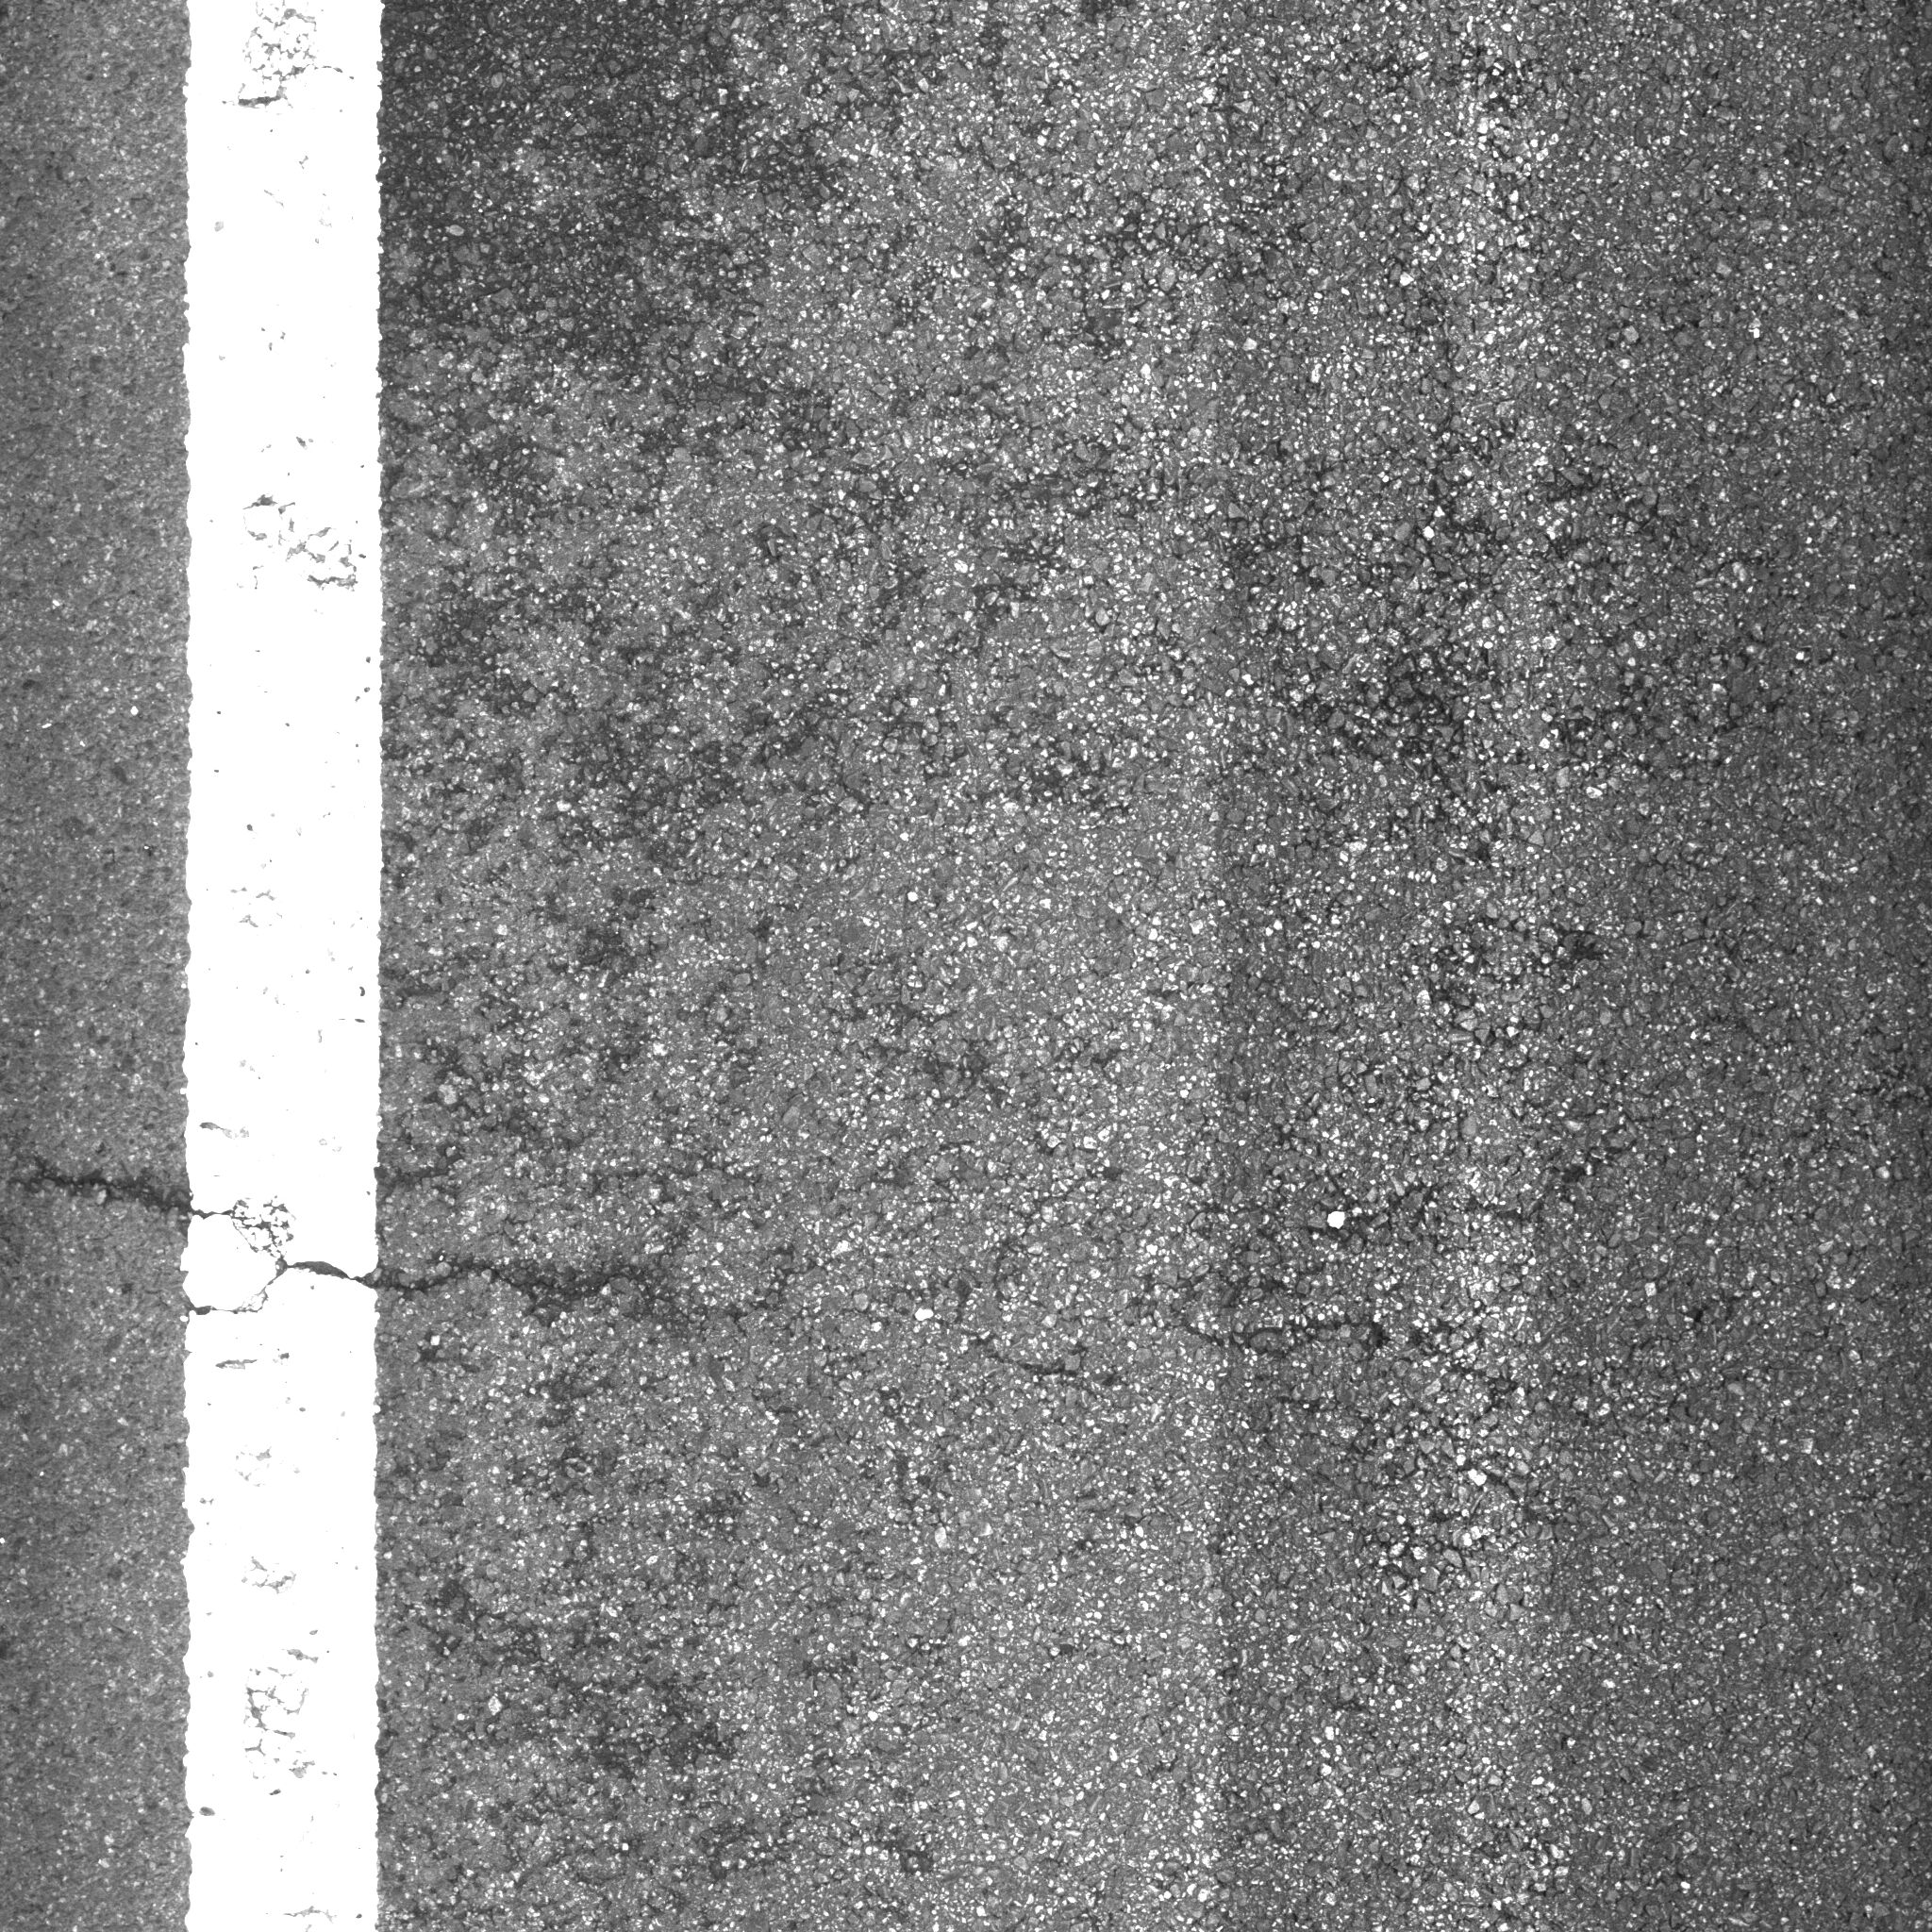transeverse: (18, 1127, 842, 1357)
